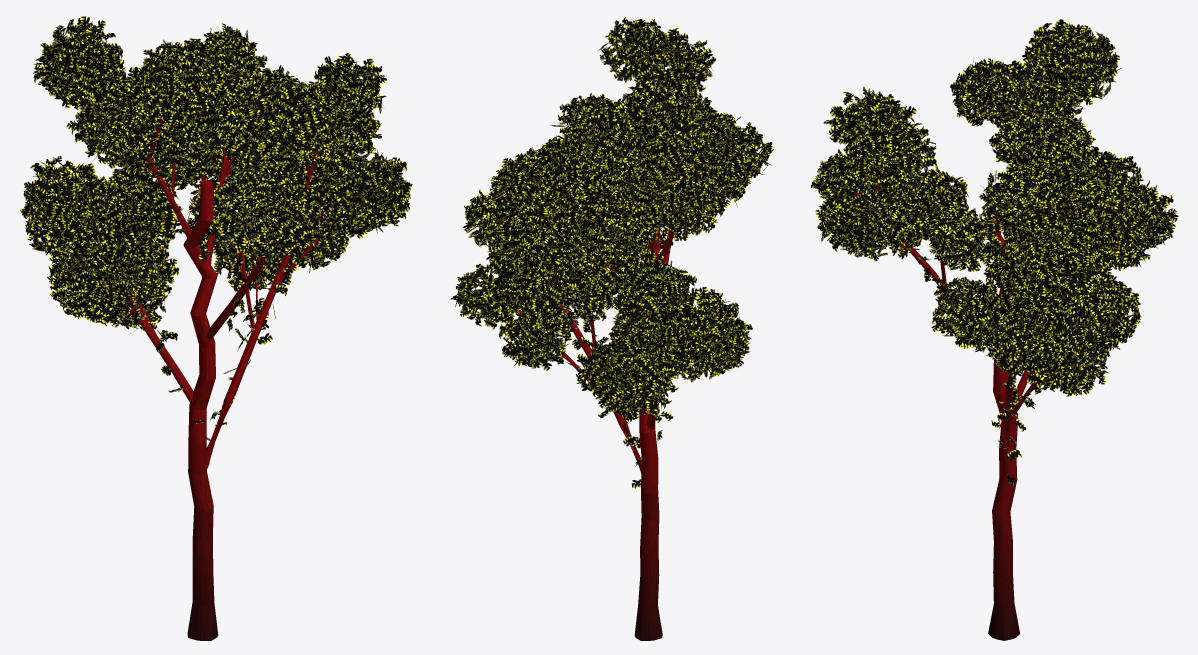
Rendered from cottonwood_river_v03.glb.
3 views of the same model, side by side, from view 1: azimuth 30°, elevation 25°; view 2: azimuth 150°, elevation 25°; view 3: azimuth 270°, elevation 25° (orthographic). The views are drawn at different scales.
Visible parts, largest first — view 1: cottonwood_river_v03; view 2: cottonwood_river_v03; view 3: cottonwood_river_v03.
Boxes of the visible parts, x1,y1,x2,y2 form: cottonwood_river_v03: (20,16,412,640); cottonwood_river_v03: (450,17,773,640); cottonwood_river_v03: (810,19,1178,640).
Size of the model in its own units: 21.54 by 37.52 by 22.33.
Materials: 2 (2 with a texture image).
